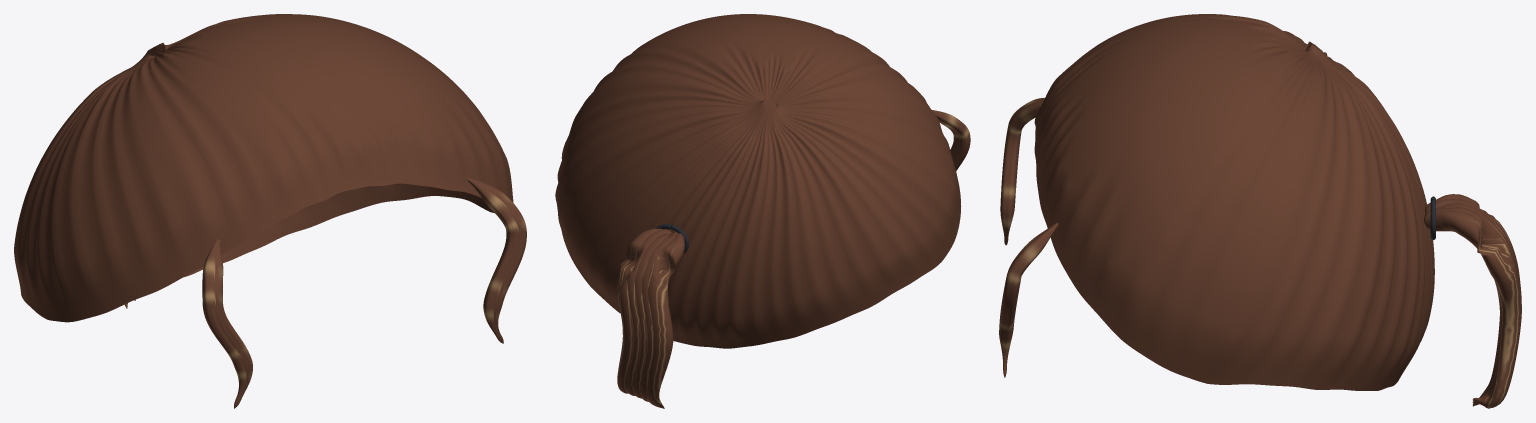
Rendered from Highlights-887dbbe70ee1252-hair.glb.
3 views of the same model, side by side, from view 1: azimuth 30°, elevation 25°; view 2: azimuth 150°, elevation 25°; view 3: azimuth 270°, elevation 25° (orthographic). The views are drawn at different scales.
Parts seen in each view (by area): view 1: 226 hair / Hair / crisp pulled roots220.002, 226 hair / Hair / sculpted front locks222.002; view 2: 226 hair / Hair / crisp pulled roots220.002, 226 hair / Hair / chestnut226.001, 226 hair / Hair / sculpted front locks222.002; view 3: 226 hair / Hair / crisp pulled roots220.002, 226 hair / Hair / chestnut226.001, 226 hair / Hair / sculpted front locks222.002.
Boxes of the visible parts, x1=… form: 226 hair / Hair / crisp pulled roots220.002: x1=14, y1=14, x2=513, y2=322; 226 hair / Hair / sculpted front locks222.002: x1=202, y1=177, x2=526, y2=408; 226 hair / Hair / crisp pulled roots220.002: x1=555, y1=14, x2=961, y2=348; 226 hair / Hair / chestnut226.001: x1=617, y1=228, x2=684, y2=408; 226 hair / Hair / sculpted front locks222.002: x1=932, y1=110, x2=970, y2=171; 226 hair / Hair / crisp pulled roots220.002: x1=1034, y1=14, x2=1434, y2=390; 226 hair / Hair / chestnut226.001: x1=1424, y1=194, x2=1521, y2=408; 226 hair / Hair / sculpted front locks222.002: x1=999, y1=98, x2=1058, y2=377.
Size of the model in its own units: 0.9675 by 0.7594 by 0.9676.
4 materials, 3 textured.
